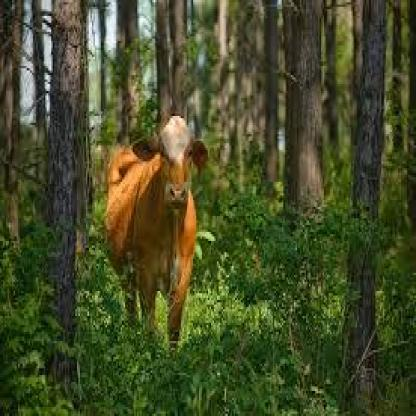cow: (102, 113, 209, 354)
